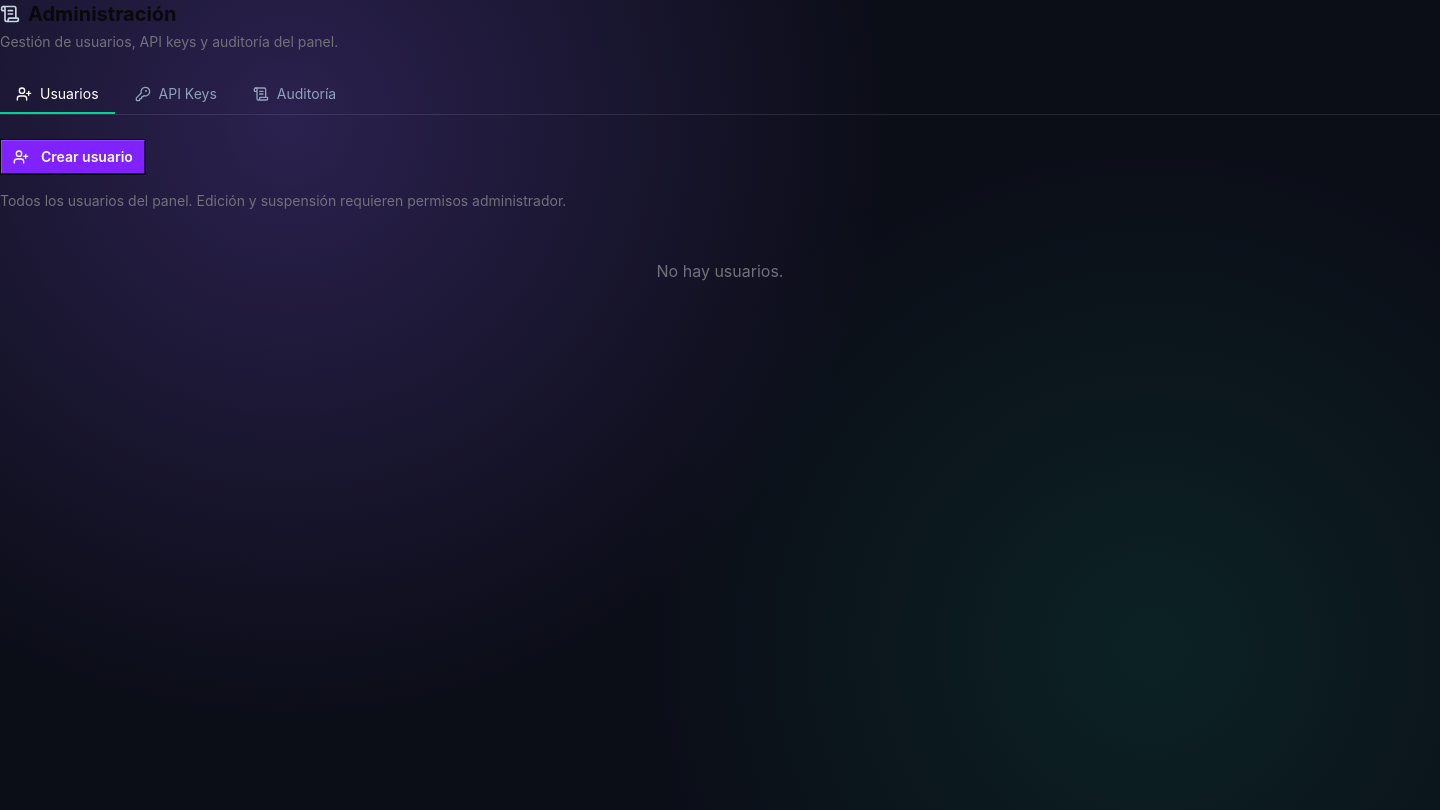
Test: IAMPage › crea un usuario
Click the button "Crear usuario". click: (73, 157)
box: [0,139,146,175]
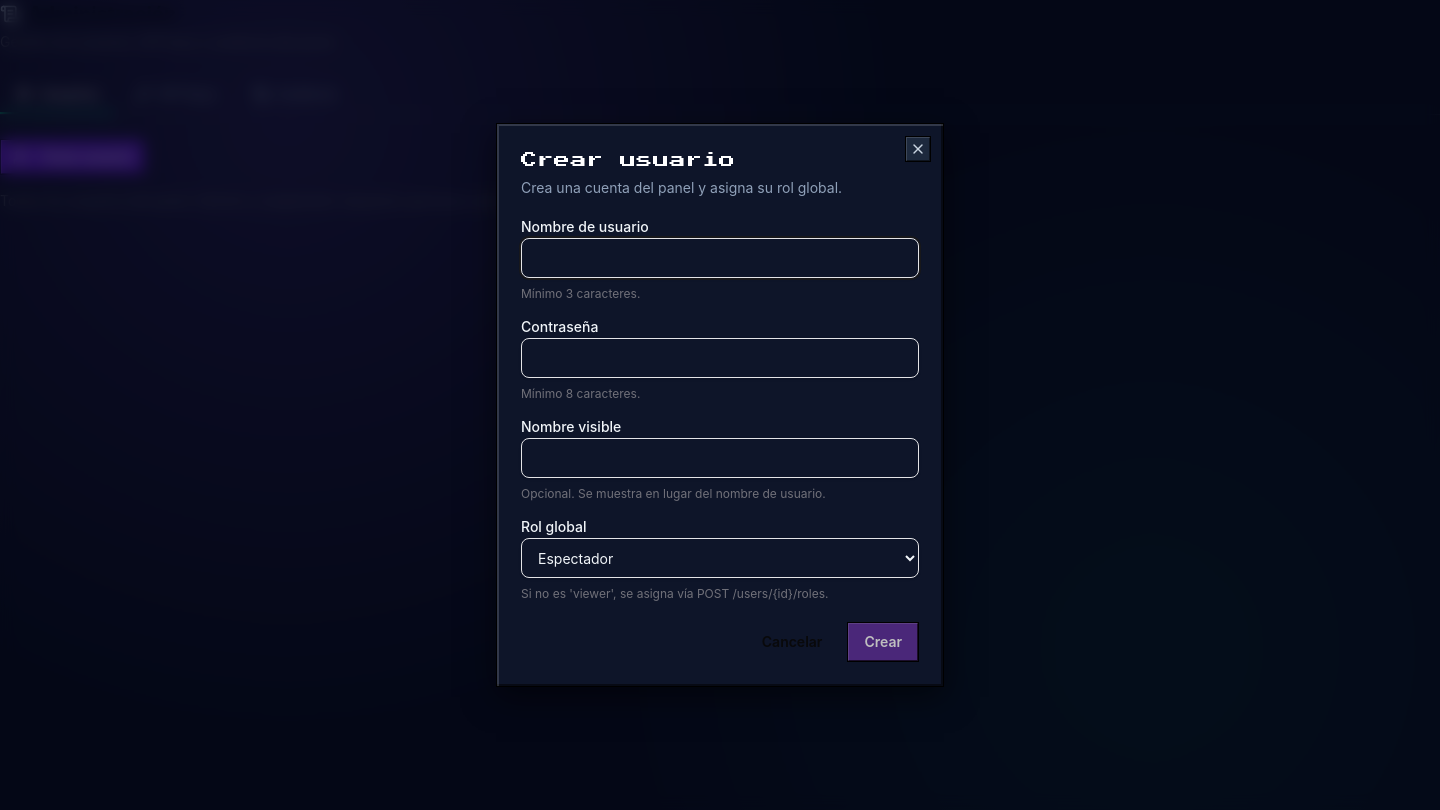
Type "mike" into the field labelled "Nombre de usuario". click: (720, 258)
box: [521,238,919,278]
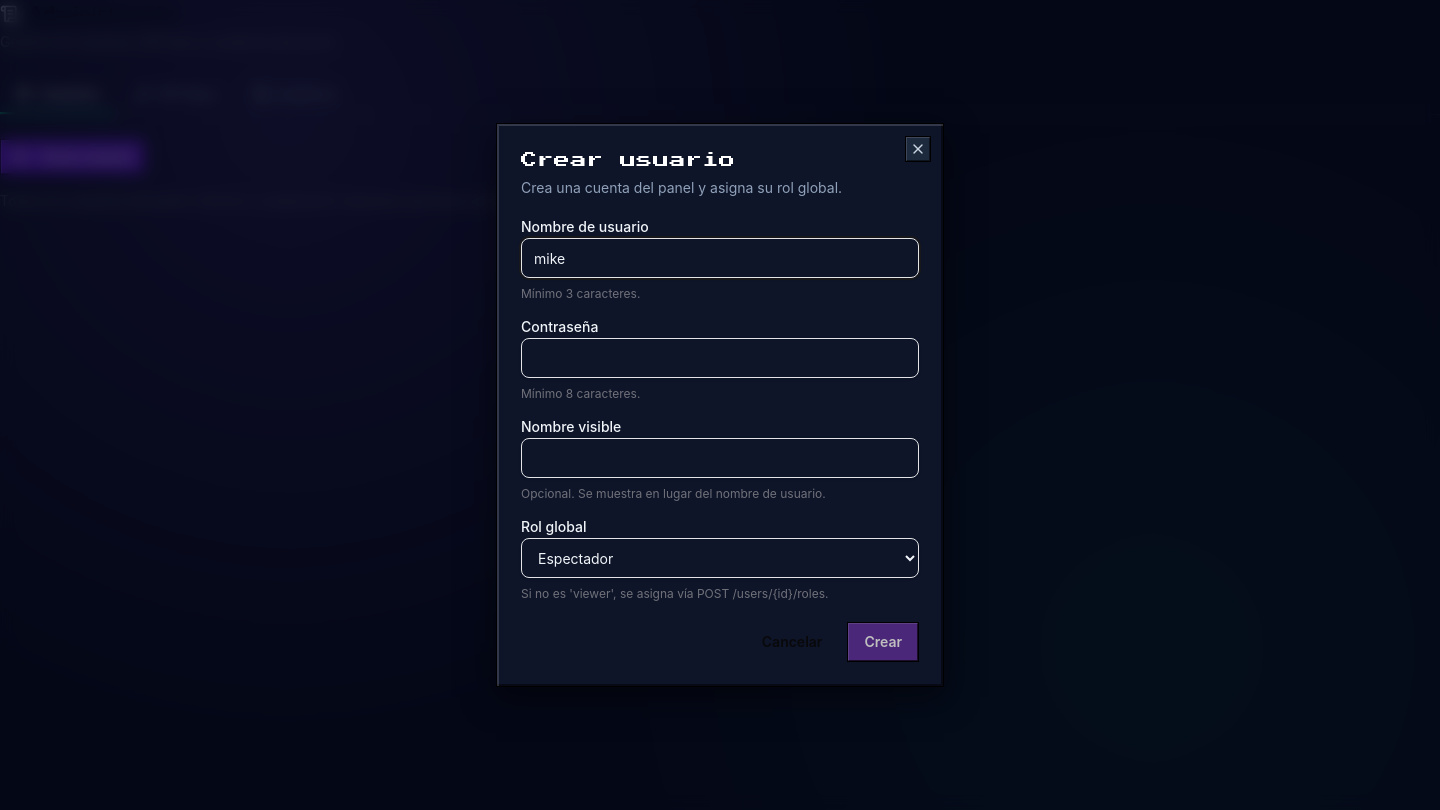
Type "s3cret!pw" into the password field labelled "Contraseña". click: (720, 358)
box: [521,338,919,378]
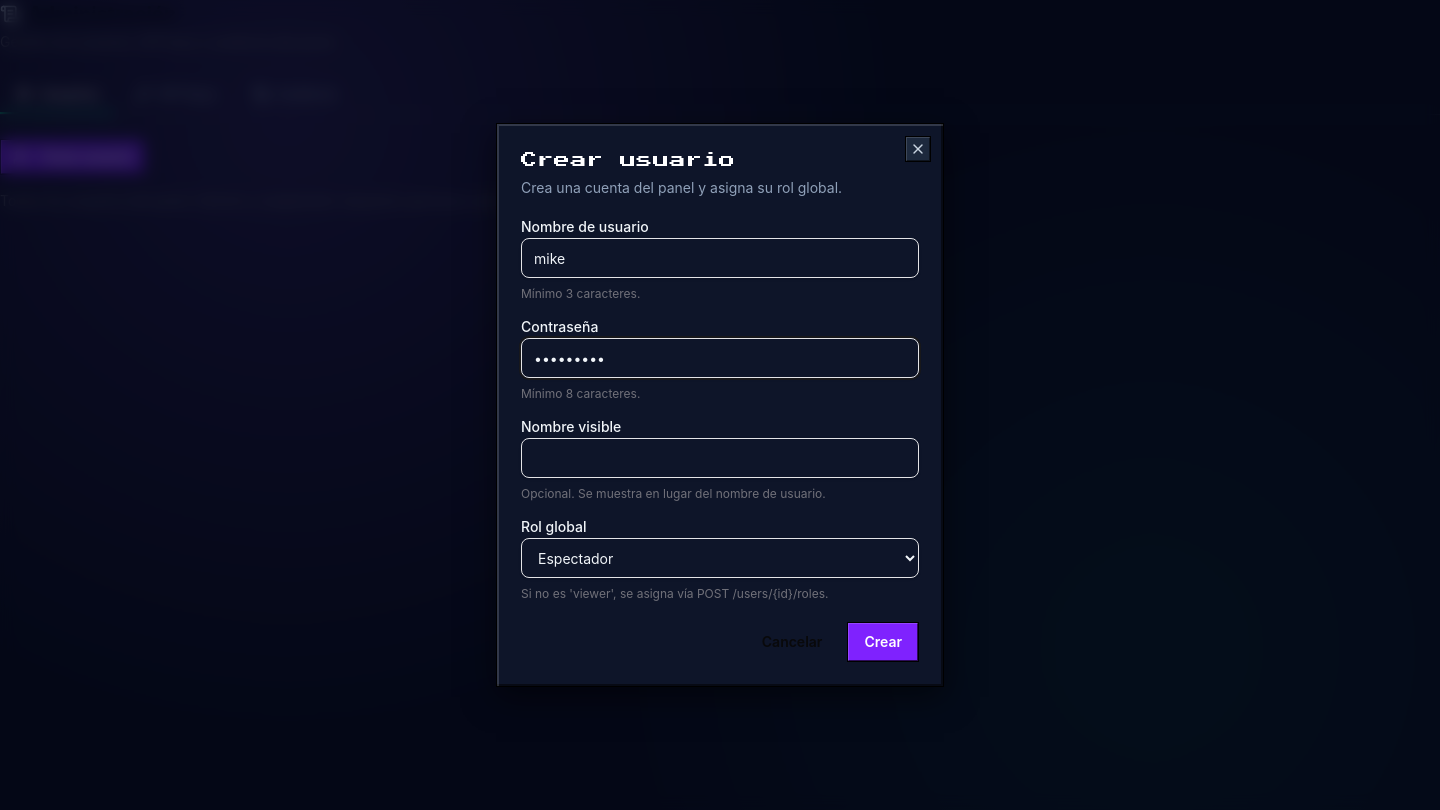
Click the button with test id "create-user-submit". click: (883, 642)
box: [847,622,919,662]
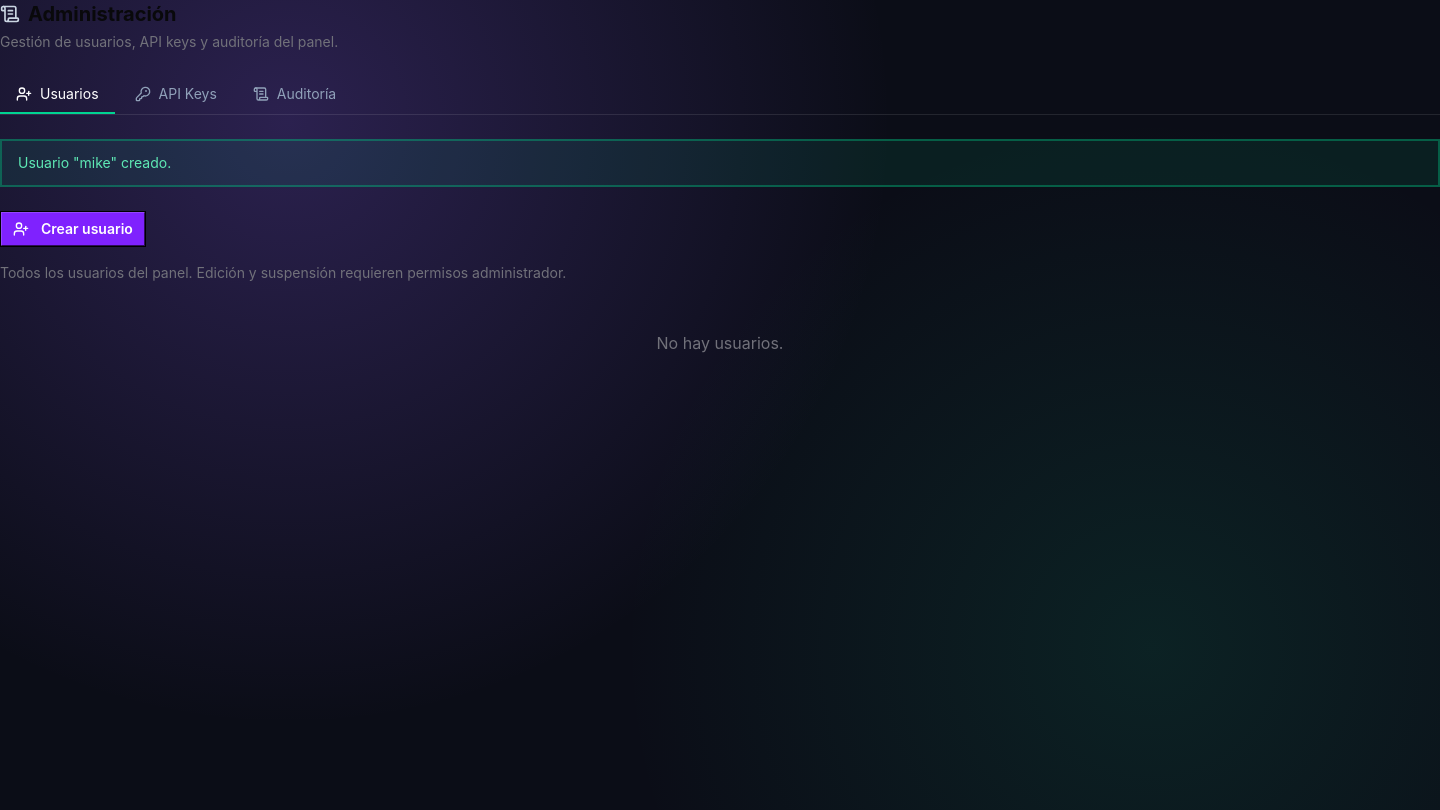
Now the message shows "mike", box [18,154,171,171]
